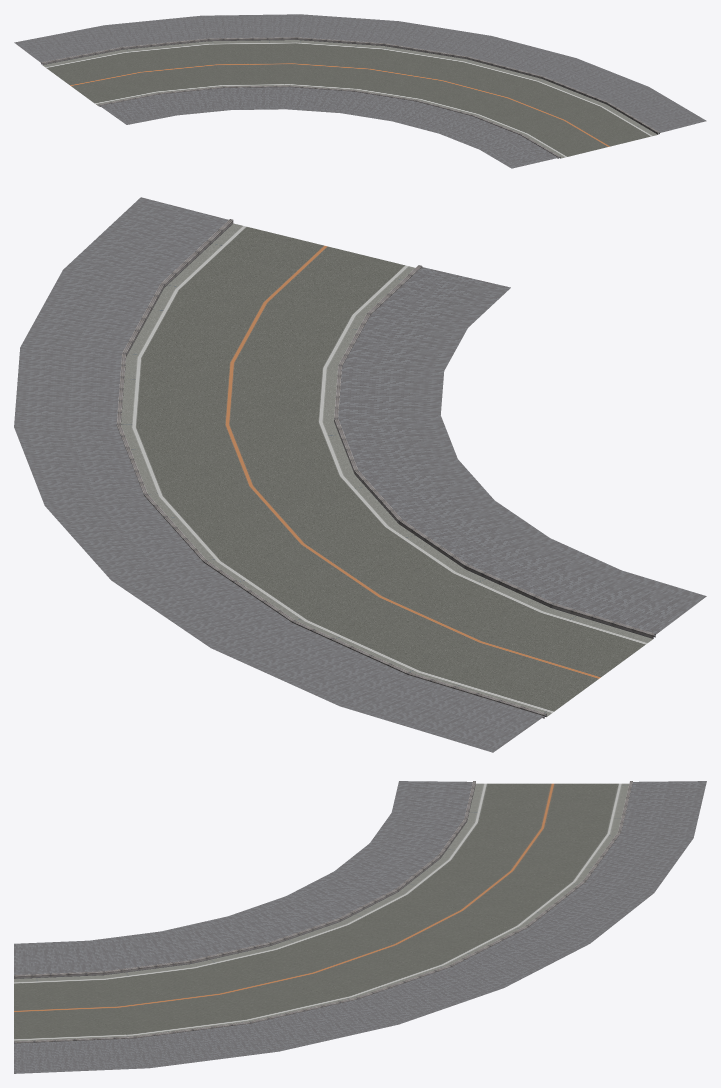
Rendered from roadway_curve_r32.fbx.
The picture shows the model from 3 angles, top to bottom: view 1: azimuth 30°, elevation 25°; view 2: azimuth 150°, elevation 25°; view 3: azimuth 270°, elevation 25°; orthographic projection. The views are drawn at different scales.
Visible parts, largest first — view 1: 001_roadway_curve_r32, 200_sidewalk_curve_r24.001, 200_sidewalk_curve_r24, 101_curb_curve_r32, 100_curb_curve_r24; view 2: 001_roadway_curve_r32, 200_sidewalk_curve_r24.001, 200_sidewalk_curve_r24, 101_curb_curve_r32, 100_curb_curve_r24; view 3: 001_roadway_curve_r32, 200_sidewalk_curve_r24.001, 200_sidewalk_curve_r24, 100_curb_curve_r24, 101_curb_curve_r32.
Part boxes in pixels (box(x1,y1,x2,y2)): 001_roadway_curve_r32: box(42, 40, 657, 158); 200_sidewalk_curve_r24.001: box(14, 14, 706, 133); 200_sidewalk_curve_r24: box(99, 87, 559, 168); 101_curb_curve_r32: box(41, 37, 659, 134); 100_curb_curve_r24: box(98, 85, 560, 158); 001_roadway_curve_r32: box(121, 223, 652, 716); 200_sidewalk_curve_r24.001: box(14, 197, 545, 752); 200_sidewalk_curve_r24: box(338, 267, 706, 635); 101_curb_curve_r32: box(116, 219, 546, 718); 100_curb_curve_r24: box(334, 265, 655, 638); 001_roadway_curve_r32: box(14, 783, 629, 1041); 200_sidewalk_curve_r24.001: box(14, 781, 706, 1073); 200_sidewalk_curve_r24: box(14, 781, 472, 974); 100_curb_curve_r24: box(14, 781, 475, 978); 101_curb_curve_r32: box(14, 781, 632, 1043).
Bounding box in the file's own units: 36 × 0.15 × 36.
